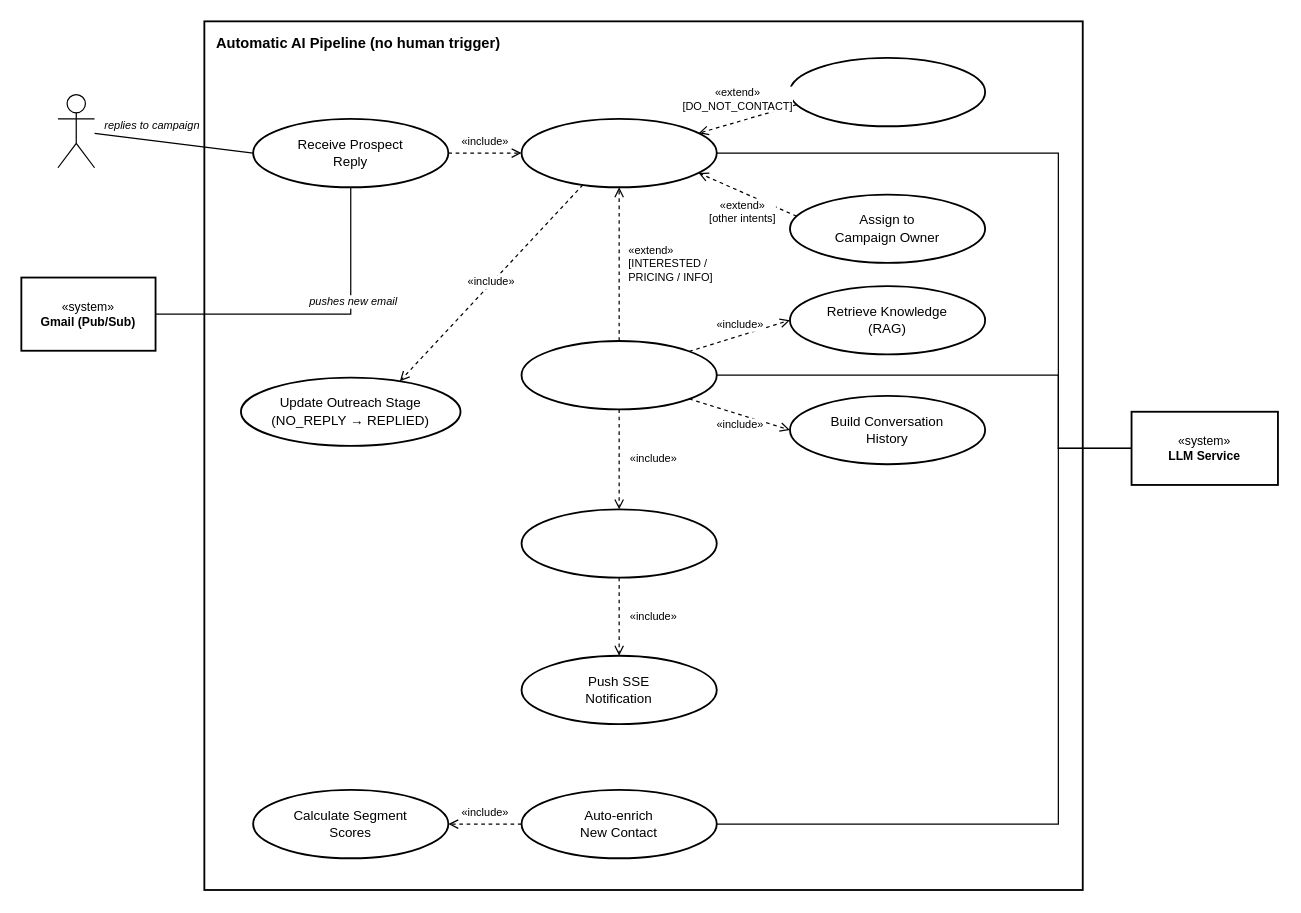
Image size: 1301x913. Some labels were removed from this diagram. The centre of each missing label's shape, as x and y in pixels:
"Classify Reply Intent (9 categories)" goes at (x=618, y=152).
"Generate AI Draft Reply" goes at (x=618, y=375).
"Prospect" goes at (x=76, y=130).
"Save Draft to Conversation" goes at (x=618, y=543).
"Suppress Contact (Do Not Contact)" goes at (x=887, y=91).
